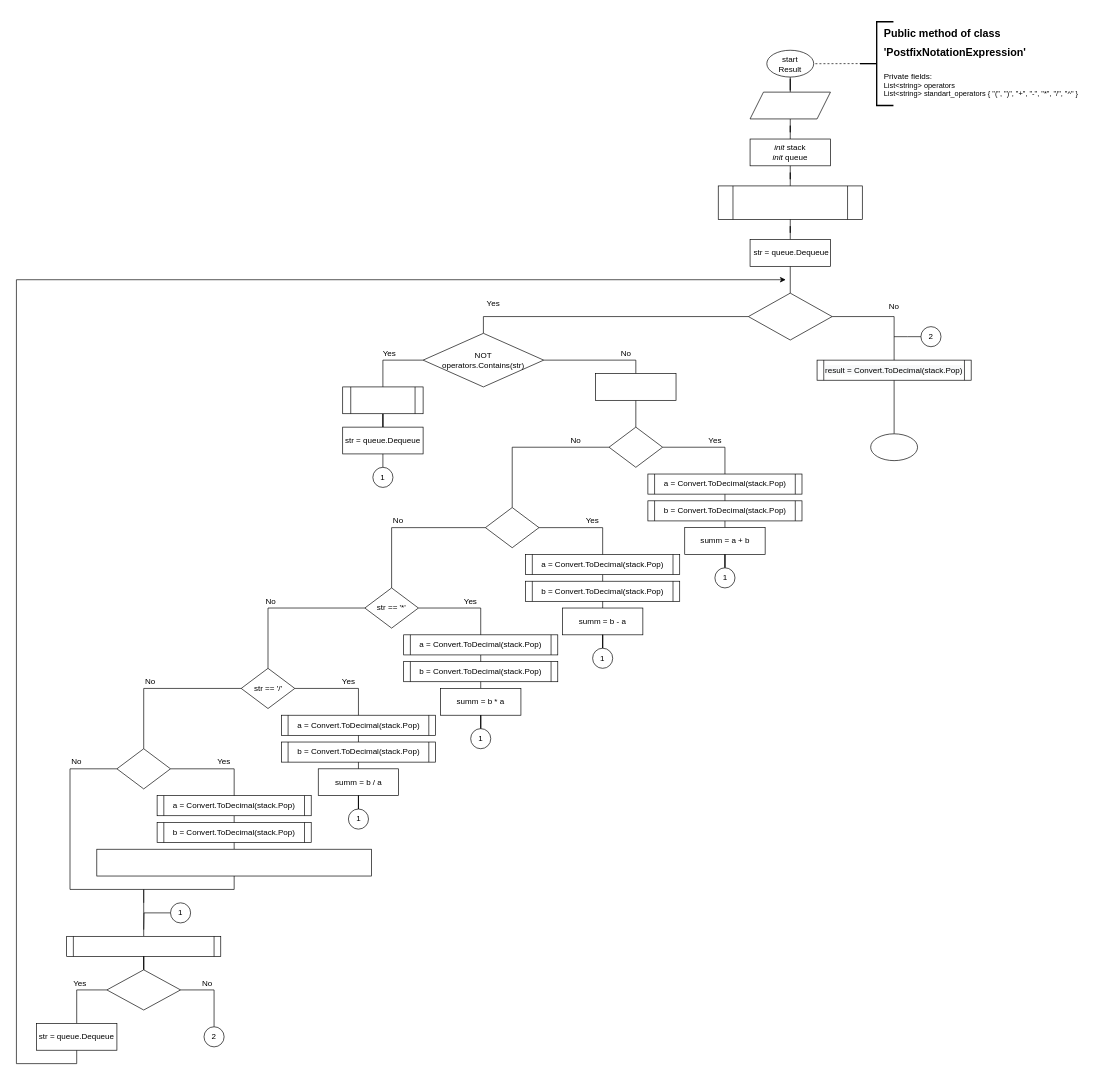
The diagram is 1114 pixels wide and 1081 high, and some of its shapes have lost their labels. Here are the shapes that lost their labels. From the top down, the centre of each, then its label:
At [789,105]: "string input".
At [790,202]: "queue = ConvertToPostfixNotation(input)".
At [790,316]: "queue.Count >= 0".
At [382,400]: "stack.Push(str)".
At [635,386]: "init decimal summ".
At [635,446]: "str == '+'".
At [894,447]: "end Result".
At [512,527]: "str == '-'".
At [143,768]: "str == '^'".
At [234,862]: "summ = Convert.ToDecimal(Pow(Convert.ToDouble(b), Convert.ToDouble(a)))".
At [143,946]: "stack.Push(summ.ToString)".
At [143,989]: "queue.Count >0".
